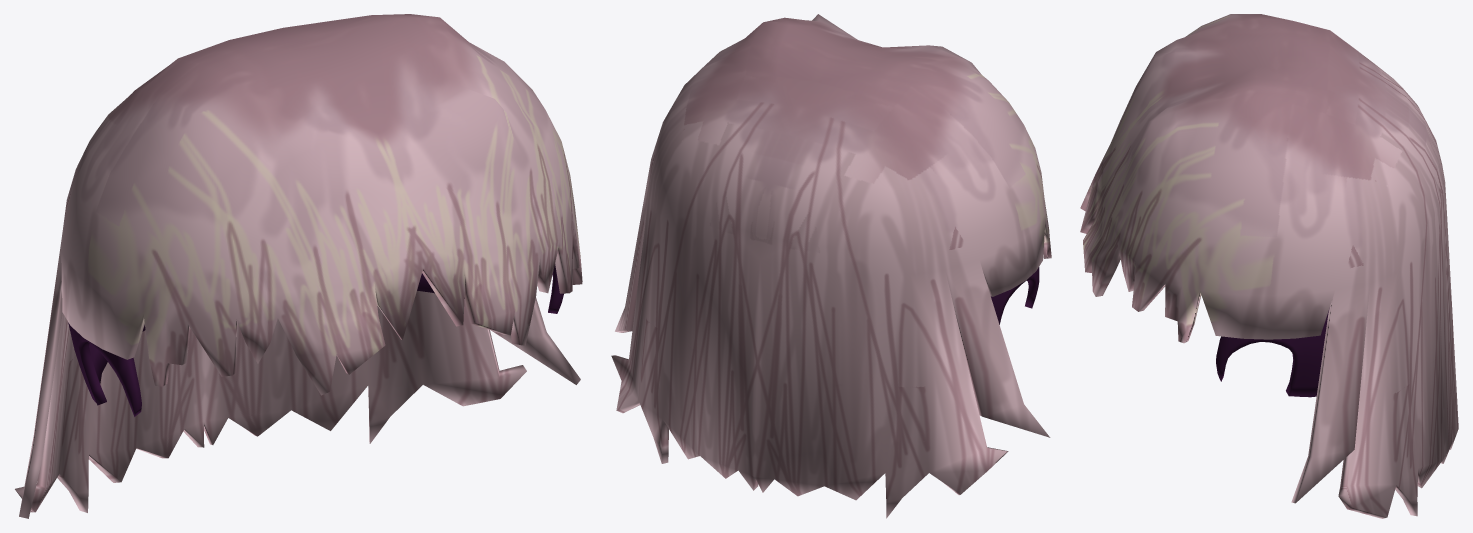
File: Aquarium_Frosted_Blonde.glb
3 renders of one model, left to right at view 1: azimuth 30°, elevation 25°; view 2: azimuth 150°, elevation 25°; view 3: azimuth 270°, elevation 25°, orthographic. The views are drawn at different scales.
Parts seen in each view (by area): view 1: Aquarium_Frosted_Blonde; view 2: Aquarium_Frosted_Blonde; view 3: Aquarium_Frosted_Blonde.
Boxes of the visible parts, bbox=[...] form: Aquarium_Frosted_Blonde: bbox=[15, 14, 582, 518]; Aquarium_Frosted_Blonde: bbox=[611, 14, 1051, 518]; Aquarium_Frosted_Blonde: bbox=[1080, 14, 1458, 518].
Bounding box in the file's own units: 1.19 × 1.03 × 0.8545.
1 material, 1 textured.
